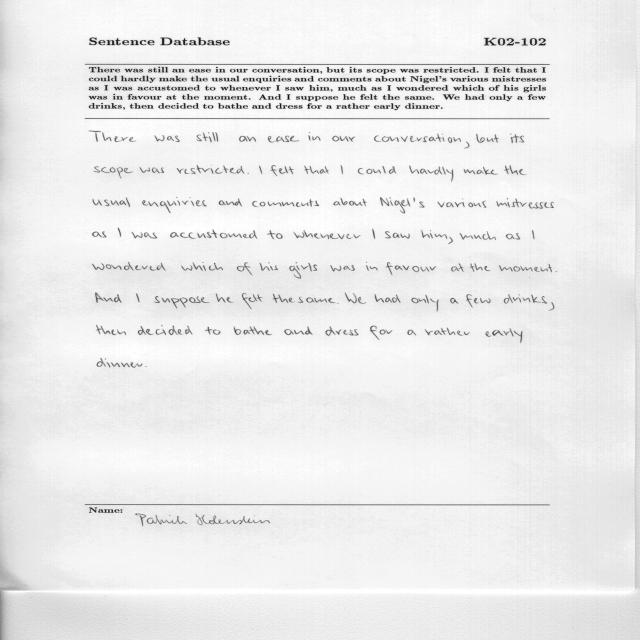word: (142, 198, 207, 214), (170, 229, 258, 239), (374, 134, 461, 143), (410, 165, 454, 182), (499, 264, 552, 278), (380, 198, 425, 214), (93, 262, 167, 271), (155, 296, 210, 308), (386, 263, 436, 276), (496, 198, 554, 209), (177, 165, 244, 174), (294, 230, 361, 239), (486, 328, 523, 343), (138, 325, 192, 335), (252, 199, 319, 207), (89, 131, 136, 142), (94, 166, 133, 179), (290, 262, 318, 279), (411, 295, 439, 312), (420, 230, 453, 244), (97, 358, 142, 368), (438, 199, 487, 208), (504, 294, 547, 304), (181, 262, 223, 271), (93, 198, 130, 208), (425, 328, 470, 336), (234, 327, 272, 336), (326, 326, 359, 336), (370, 325, 392, 340), (466, 295, 491, 308), (242, 293, 262, 309), (358, 166, 396, 174), (97, 325, 126, 335), (96, 292, 122, 303), (463, 167, 498, 175), (333, 198, 367, 206), (284, 327, 313, 336), (271, 165, 294, 176), (375, 294, 401, 303), (345, 293, 366, 304), (504, 165, 527, 175), (268, 136, 300, 143), (298, 297, 335, 303), (197, 132, 218, 142), (237, 262, 252, 276), (476, 134, 499, 143), (304, 166, 329, 174), (385, 231, 410, 239), (474, 231, 496, 240), (273, 294, 295, 303), (470, 263, 491, 272), (219, 199, 242, 207), (154, 135, 180, 142), (216, 293, 234, 303), (260, 262, 278, 271), (132, 232, 157, 238), (330, 265, 355, 271), (140, 167, 164, 173), (510, 134, 524, 144), (333, 136, 356, 142), (268, 230, 283, 239), (205, 327, 221, 335), (309, 132, 321, 141), (366, 262, 378, 271), (451, 263, 463, 272), (239, 136, 256, 142), (506, 233, 520, 240), (460, 233, 473, 240), (93, 232, 106, 238), (408, 330, 417, 336), (450, 298, 458, 304), (549, 302, 554, 311), (464, 142, 470, 149), (136, 294, 140, 303), (372, 229, 375, 239), (340, 165, 343, 174), (118, 228, 121, 237), (259, 166, 262, 174), (532, 230, 534, 239), (247, 173, 249, 174), (337, 303, 339, 304), (145, 366, 147, 367), (556, 271, 557, 272)
